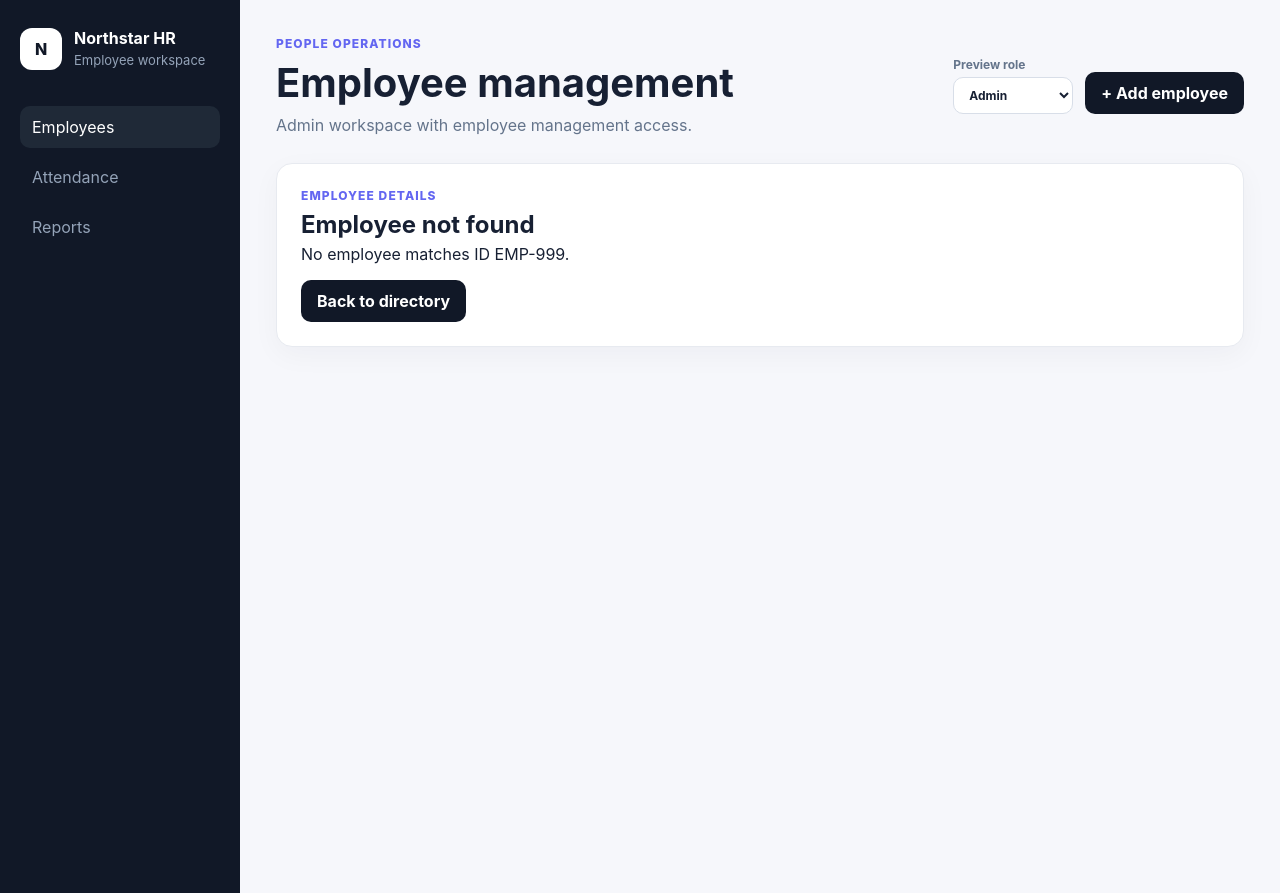
Scenario: renders a recoverable employee-not-found view for an unknown id
The image size is (1280, 893).
Check: the heading "Employee not found" is shown, box [301,210,535,239]
Click the button "Back to directory": (384, 301) [301,280,466,322]
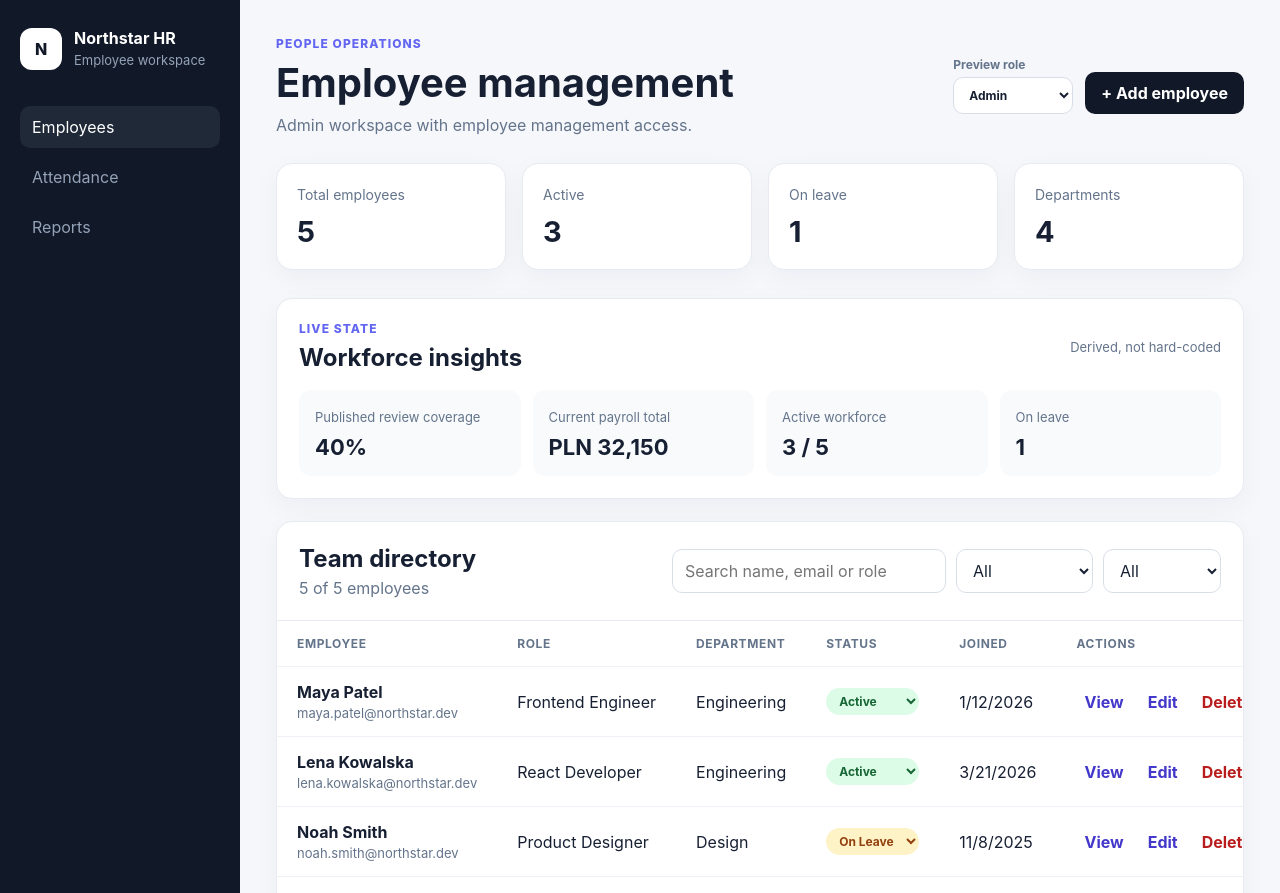
Check: the heading "Team directory" is shown, box [299,544,476,573]
